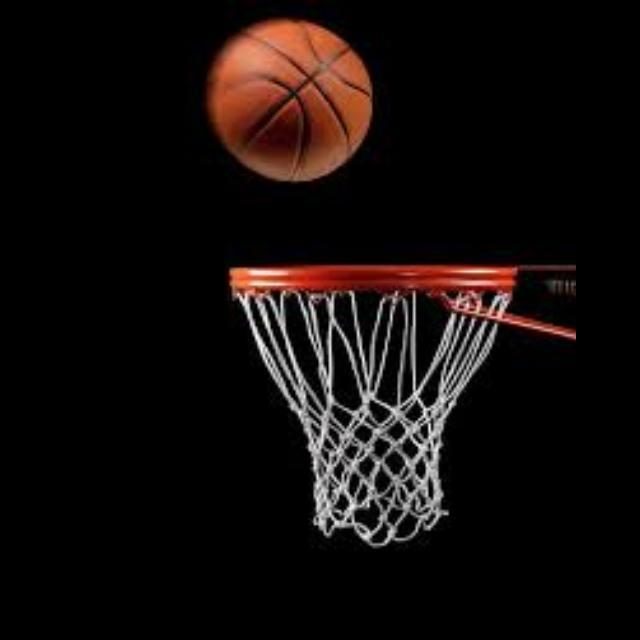basketball: (202, 18, 370, 184)
rim: (232, 266, 516, 542)
